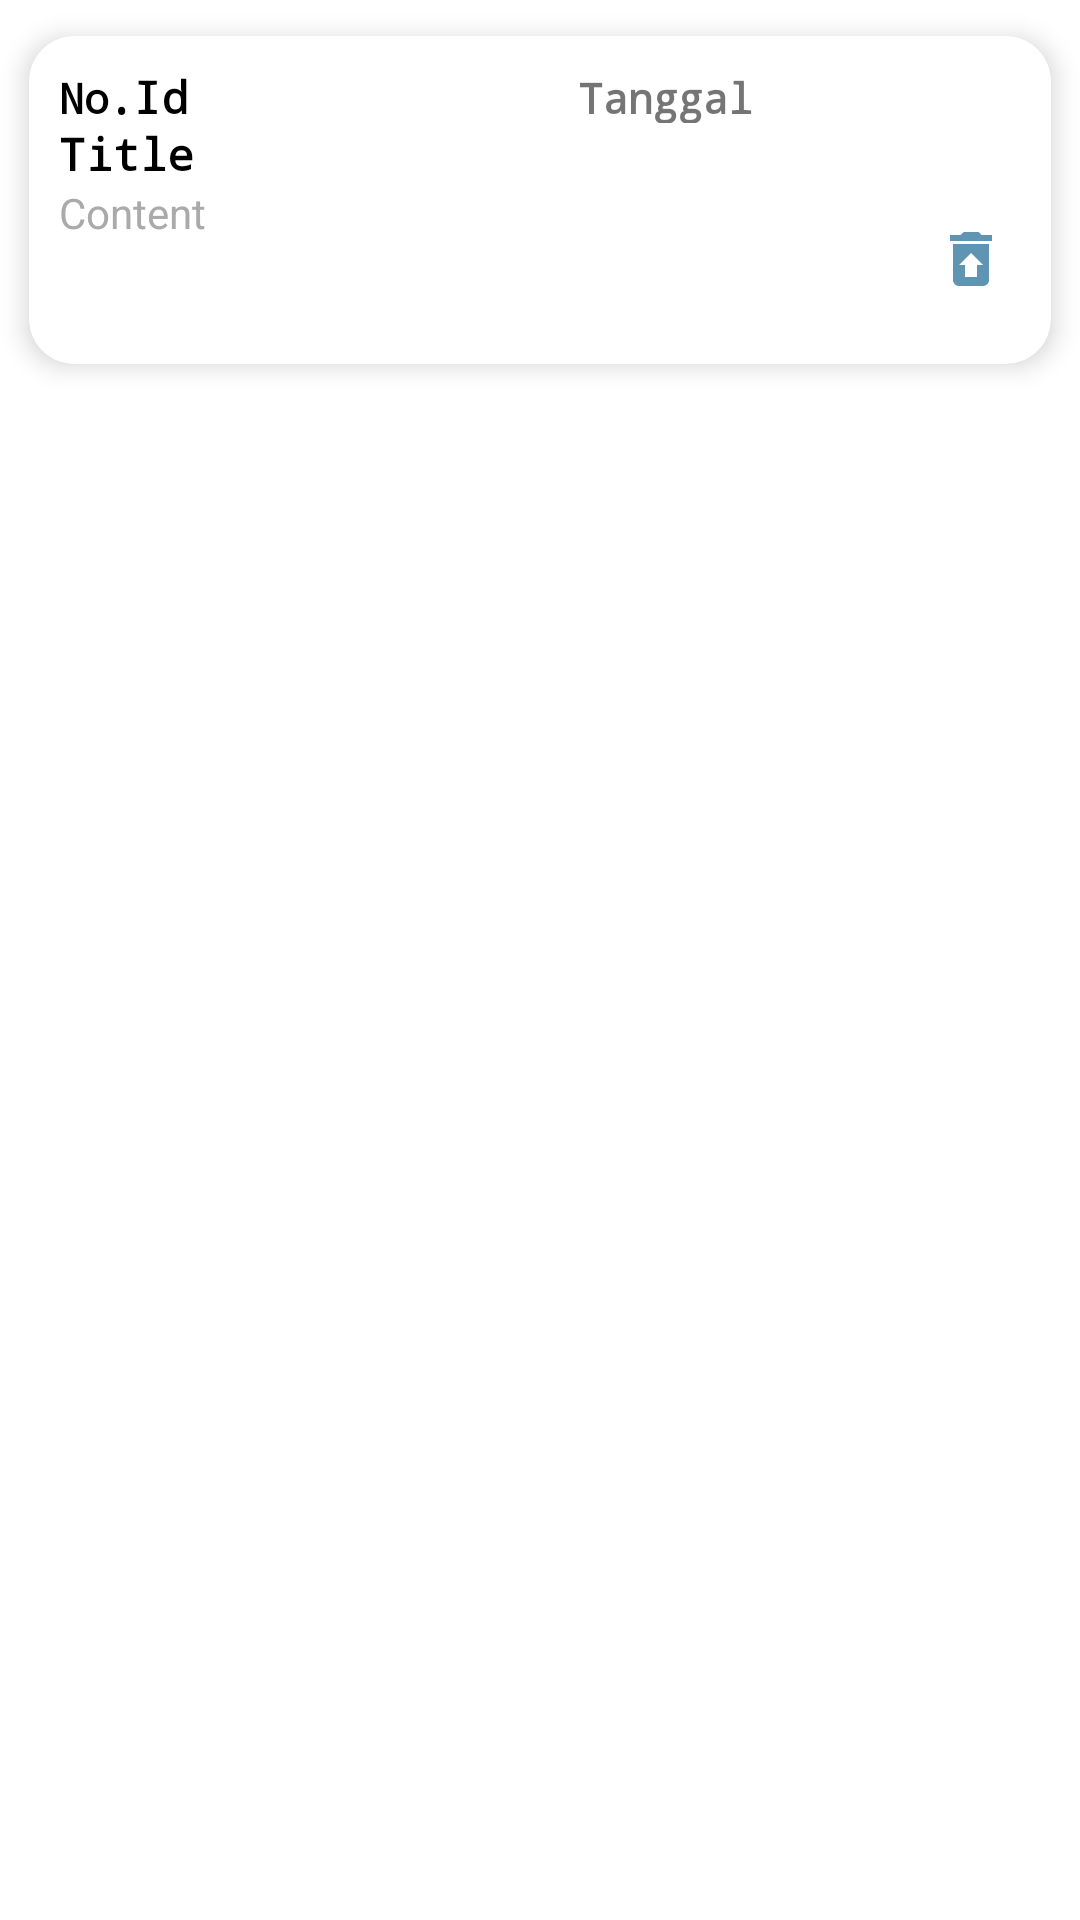

Icon bounding boxes for this 1080×1920 phone screenshot, format [x1,y1,x2,y2]:
trash: [950,232,992,286]
